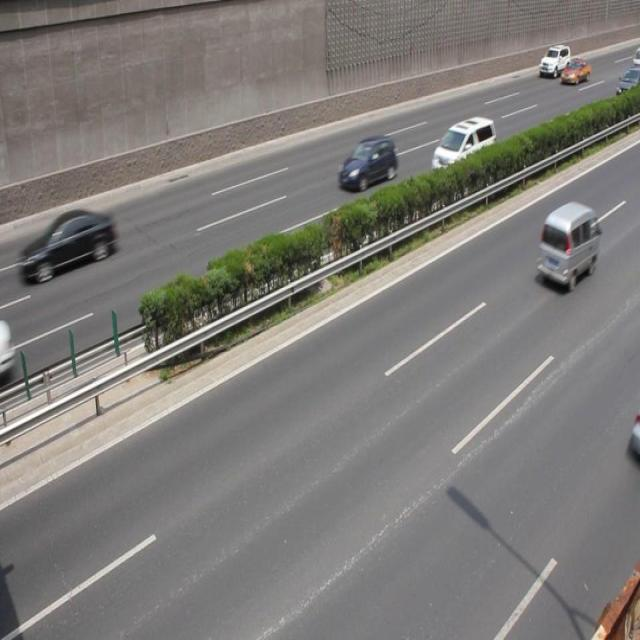car: (19, 207, 116, 286), (429, 116, 495, 183), (338, 135, 396, 193), (538, 44, 569, 79), (558, 57, 589, 85)
truck: (536, 203, 600, 292)
